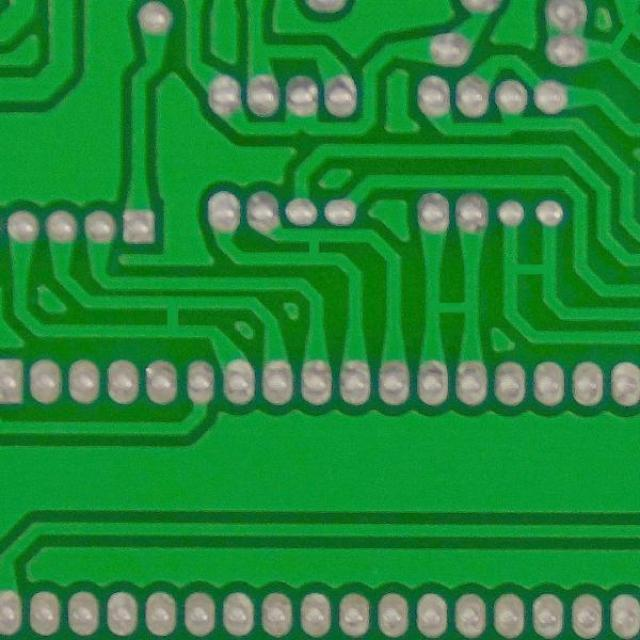Short_Circuit: (415, 285, 488, 328), (493, 249, 565, 291), (150, 288, 196, 345), (291, 224, 335, 271), (603, 14, 640, 67)
